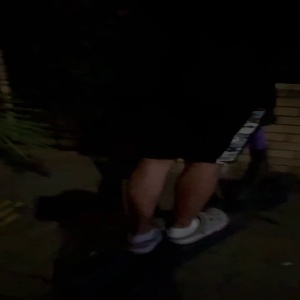human on a scooter: (49, 1, 288, 288)
